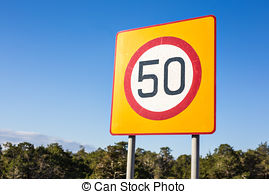Speed_limit_50km: (123, 37, 202, 120)
